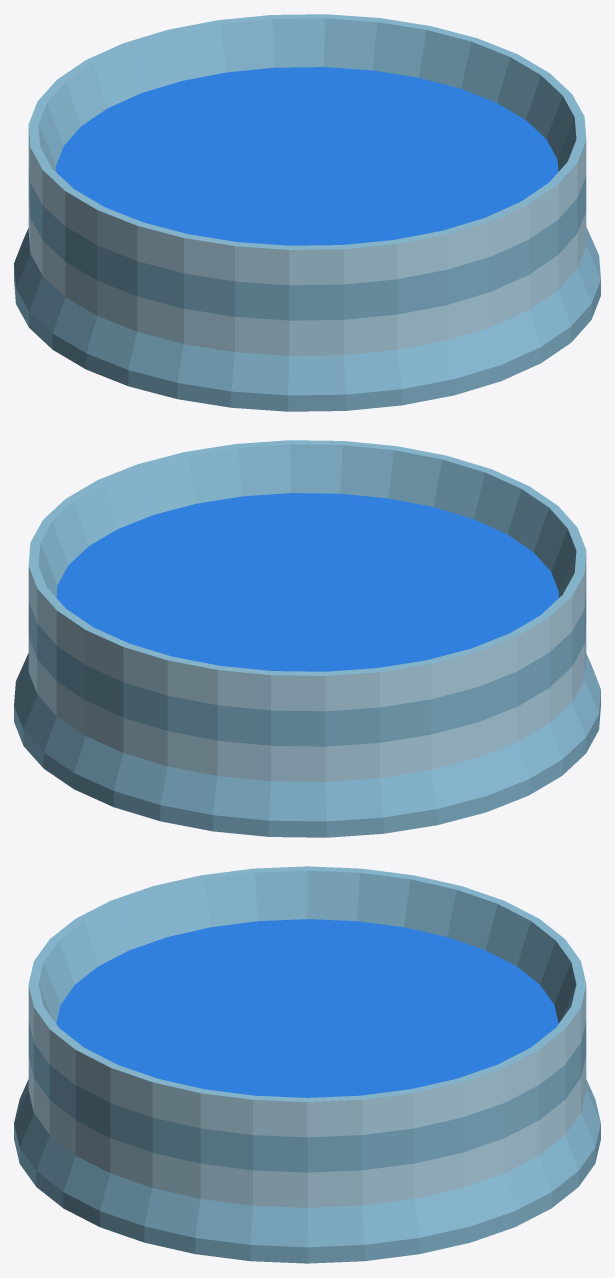
Rendered from Pool.fbx.
3 renders of one model, top to bottom at view 1: azimuth 30°, elevation 25°; view 2: azimuth 150°, elevation 25°; view 3: azimuth 270°, elevation 25°, orthographic.
Parts seen in each view (by area): view 1: Cylinder; view 2: Cylinder; view 3: Cylinder.
Part boxes in pixels (x1=…): Cylinder: x1=14, y1=14, x2=600, y2=411; Cylinder: x1=14, y1=440, x2=600, y2=837; Cylinder: x1=14, y1=866, x2=600, y2=1263.
Bounding box in the file's own units: 1239 × 362 × 1239.
